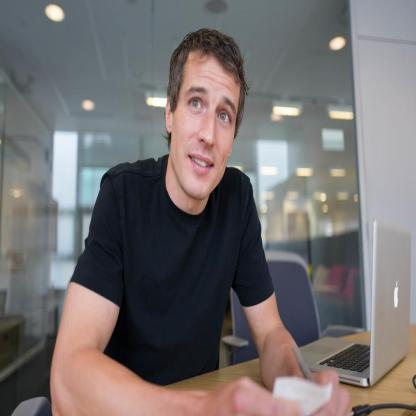board: (300, 224, 410, 403)
